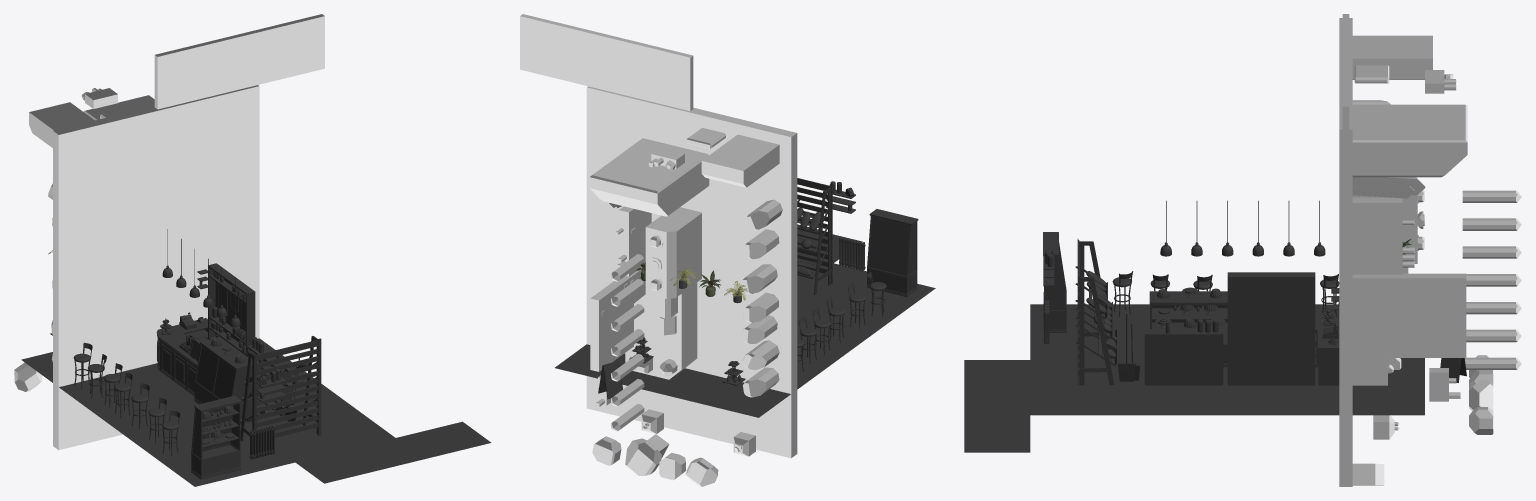
The model's file is SM_BakerInside02.fbx.
3 views of the same model, side by side, from view 1: azimuth 30°, elevation 25°; view 2: azimuth 150°, elevation 25°; view 3: azimuth 270°, elevation 25° (orthographic). The views are drawn at different scales.
Parts seen in each view (by area): view 1: SM_BakerInside02_ConvexHulls, SM_BakerInside02_LOD0; view 2: SM_BakerInside02_ConvexHulls, SM_BakerInside02_LOD0; view 3: SM_BakerInside02_LOD0, SM_BakerInside02_ConvexHulls.
Part boxes in pixels (bbox=[...]): SM_BakerInside02_ConvexHulls: bbox=[14, 14, 324, 450]; SM_BakerInside02_LOD0: bbox=[21, 229, 491, 486]; SM_BakerInside02_ConvexHulls: bbox=[520, 14, 797, 486]; SM_BakerInside02_LOD0: bbox=[555, 178, 935, 417]; SM_BakerInside02_LOD0: bbox=[964, 200, 1466, 452]; SM_BakerInside02_ConvexHulls: bbox=[1339, 14, 1521, 486].
Size of the model in its own units: 800 by 1270 by 1146.
